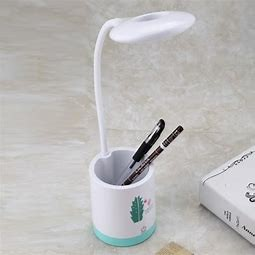pen: (125, 126, 180, 184), (120, 119, 163, 184)
